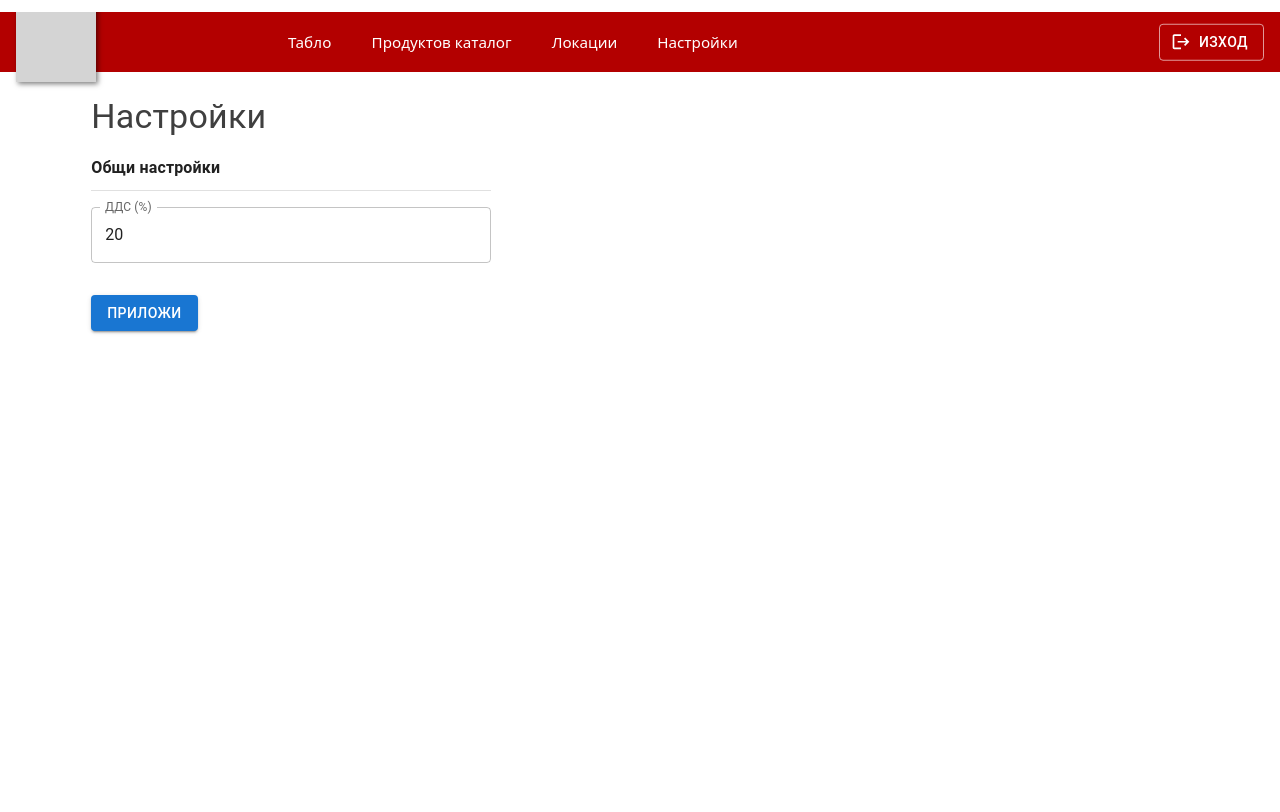
Config page › sends the entered VAT to the backend and confirms success
Replace the text in the field labelled "ДДС (%)" with "22.5" at (291, 235), box top-left (91, 207), bottom-right (491, 263)
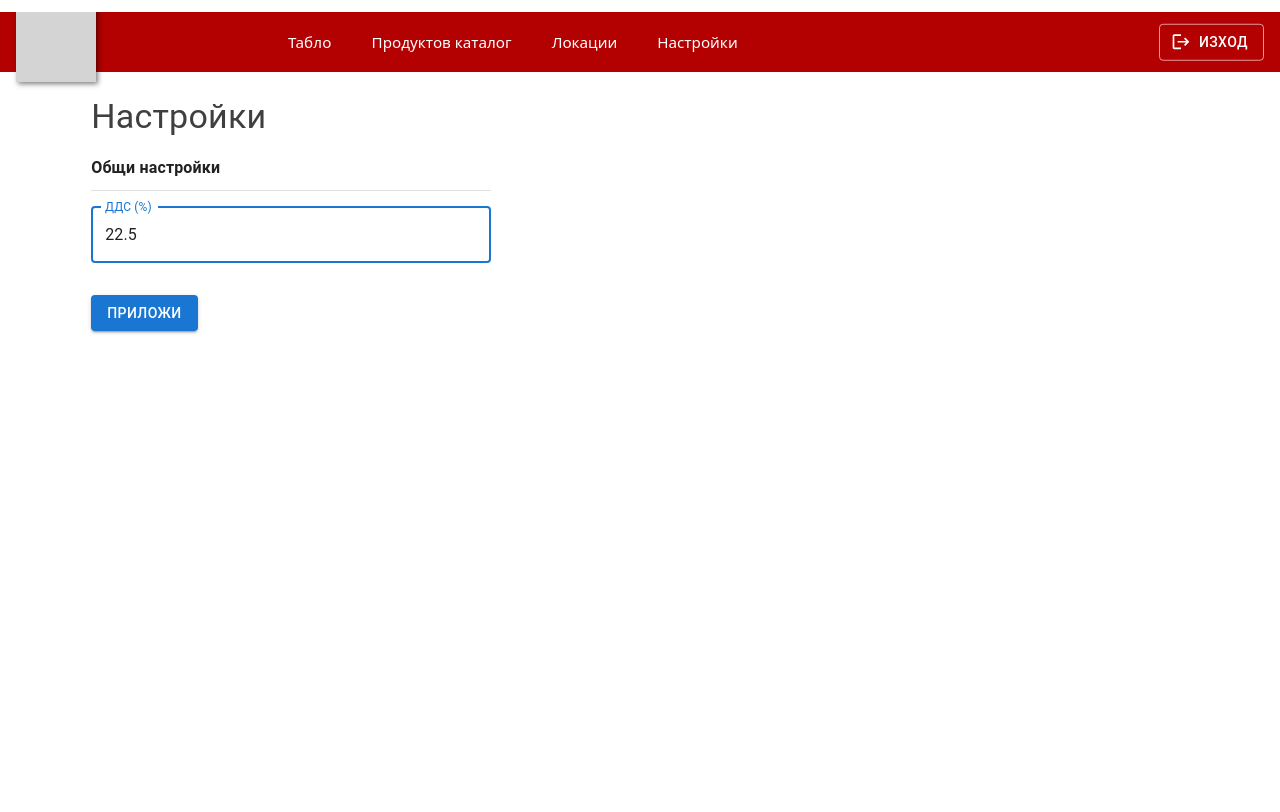
Click the button "Приложи".
click(144, 313)  # box top-left (91, 295), bottom-right (198, 332)
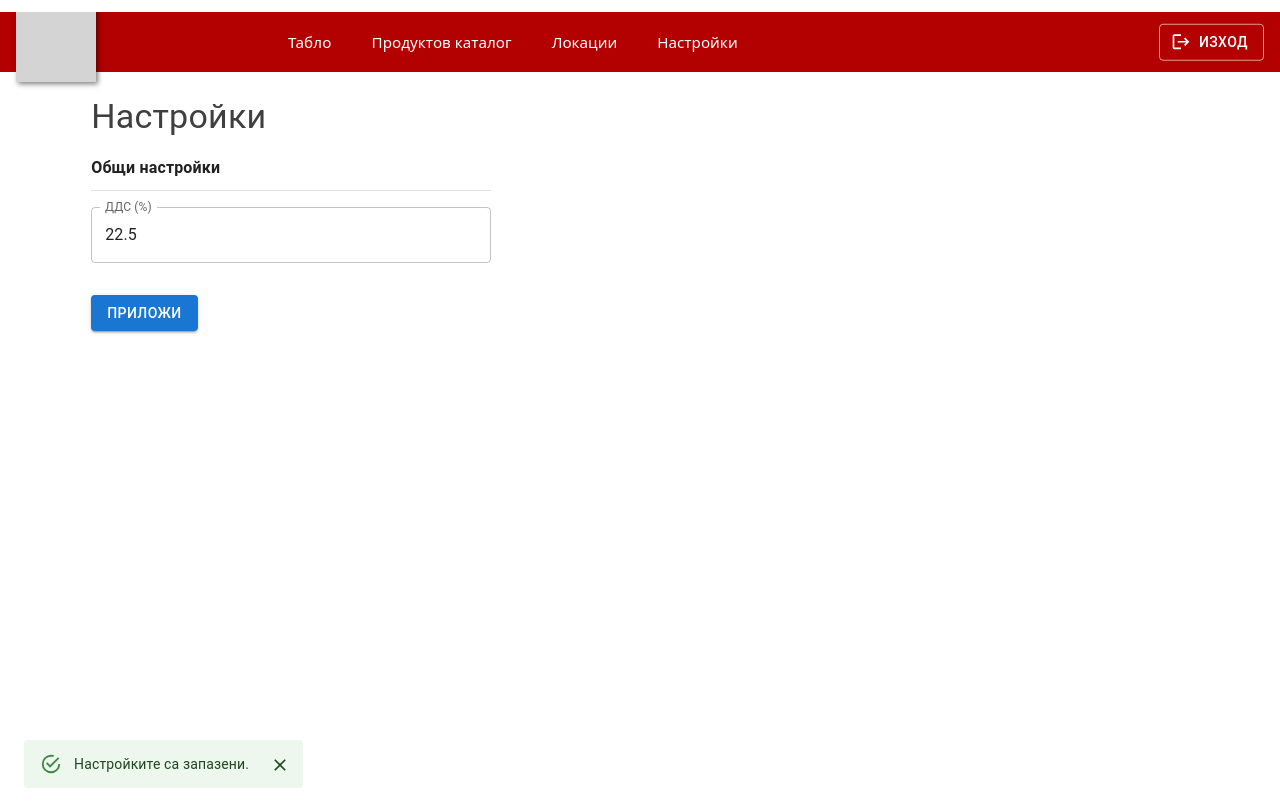
Check: the text "Настройките са запазени." is shown, box top-left (74, 756), bottom-right (249, 772)
